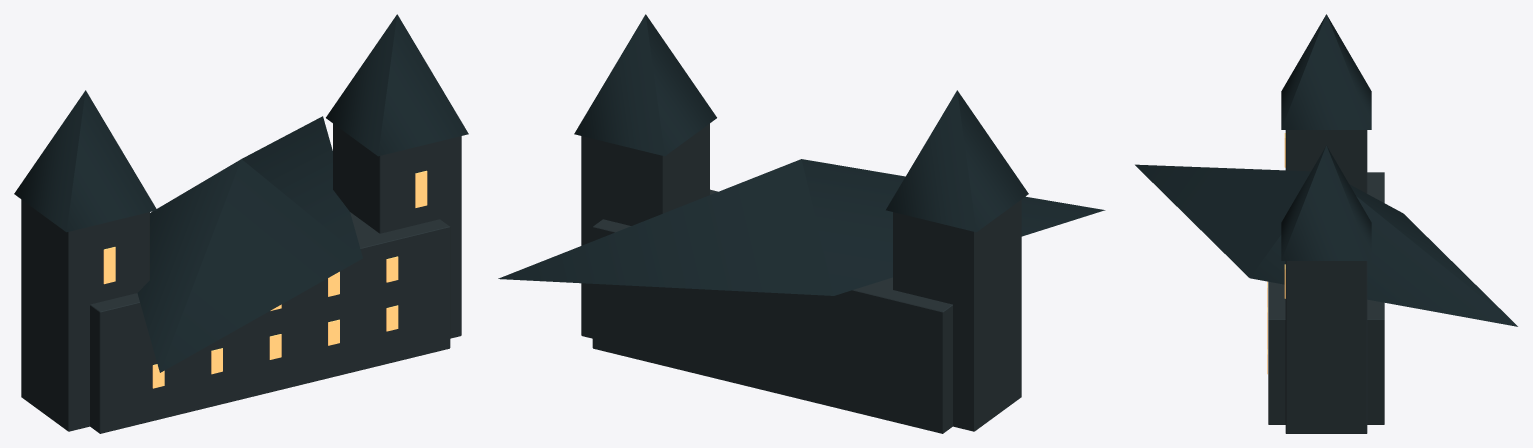
File: manor.glb
3 renders of one model, left to right at view 1: azimuth 30°, elevation 25°; view 2: azimuth 150°, elevation 25°; view 3: azimuth 270°, elevation 25°, orthographic. The views are drawn at different scales.
Visible parts, largest first — view 1: Distant_manor_Manor_stone, Distant_manor_Manor_roof, Distant_manor_Distant_amber_windows; view 2: Distant_manor_Manor_stone, Distant_manor_Manor_roof; view 3: Distant_manor_Manor_roof, Distant_manor_Manor_stone.
Boxes of the visible parts, x1,y1,x2,y2 form: Distant_manor_Manor_stone: [21, 123, 461, 433]; Distant_manor_Manor_roof: [14, 14, 468, 372]; Distant_manor_Distant_amber_windows: [103, 170, 427, 388]; Distant_manor_Manor_stone: [581, 123, 1021, 433]; Distant_manor_Manor_roof: [498, 14, 1105, 295]; Distant_manor_Manor_roof: [1135, 14, 1517, 326]; Distant_manor_Manor_stone: [1268, 130, 1384, 433].
Bounding box in the file's own units: 20.67 × 15.45 × 19.8.
